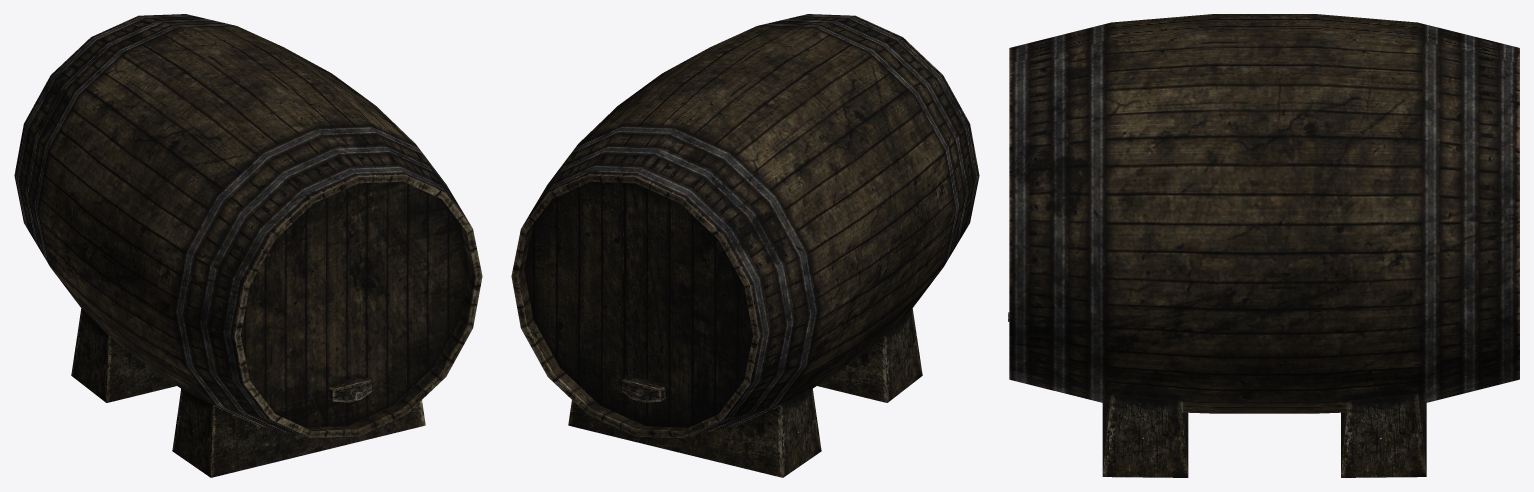
The model's file is big_wine_barrel.dae.
3 renders of one model, left to right at view 1: azimuth 30°, elevation 25°; view 2: azimuth 150°, elevation 25°; view 3: azimuth 270°, elevation 25°, orthographic. The views are drawn at different scales.
Visible parts, largest first — view 1: polySurface1; view 2: polySurface1; view 3: polySurface1.
Boxes of the visible parts, x1,y1,x2,y2 form: polySurface1: (14, 14, 482, 477); polySurface1: (511, 14, 979, 477); polySurface1: (1008, 14, 1519, 477).
Bounding box in the file's own units: 3.13 × 3.32 × 4.01.
